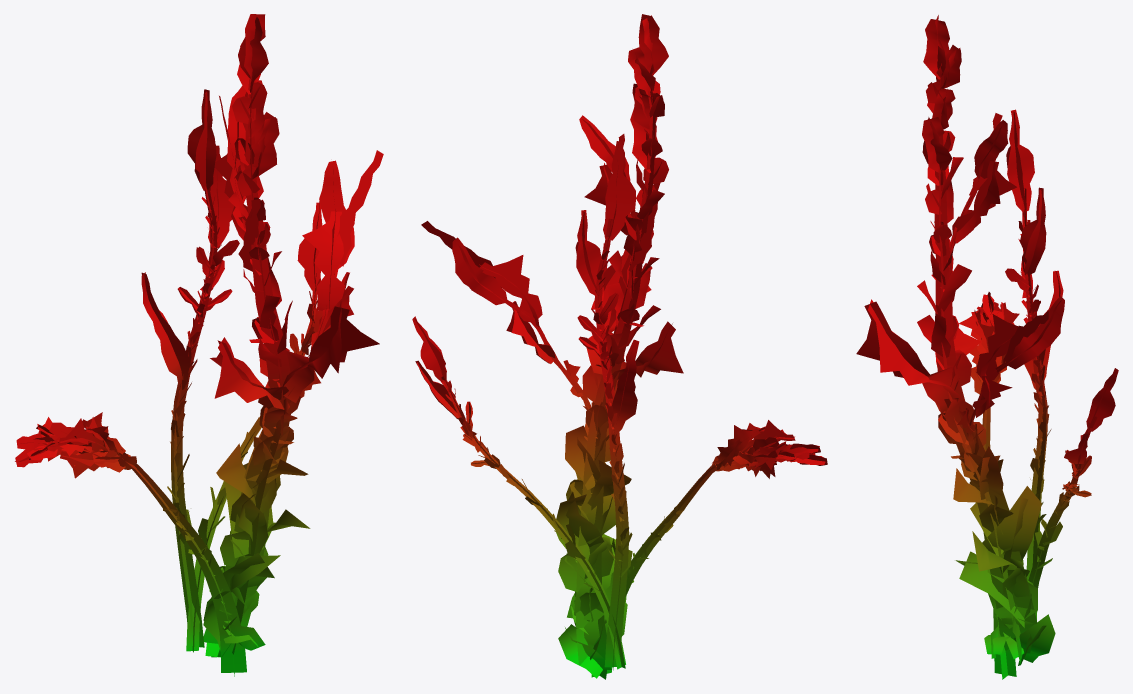
Rendered from F01_Tamarin_03.fbx.
The picture shows the model from 3 angles, left to right: view 1: azimuth 30°, elevation 25°; view 2: azimuth 150°, elevation 25°; view 3: azimuth 270°, elevation 25°; orthographic projection. The views are drawn at different scales.
Parts seen in each view (by area): view 1: _7d94_Var3_LOD0; view 2: _7d94_Var3_LOD0; view 3: _7d94_Var3_LOD0.
Part boxes in pixels (x1=…): _7d94_Var3_LOD0: x1=15, y1=14, x2=383, y2=676; _7d94_Var3_LOD0: x1=412, y1=14, x2=827, y2=679; _7d94_Var3_LOD0: x1=856, y1=15, x2=1118, y2=679.
Size of the model in its own units: 46.35 by 75.83 by 27.67.
